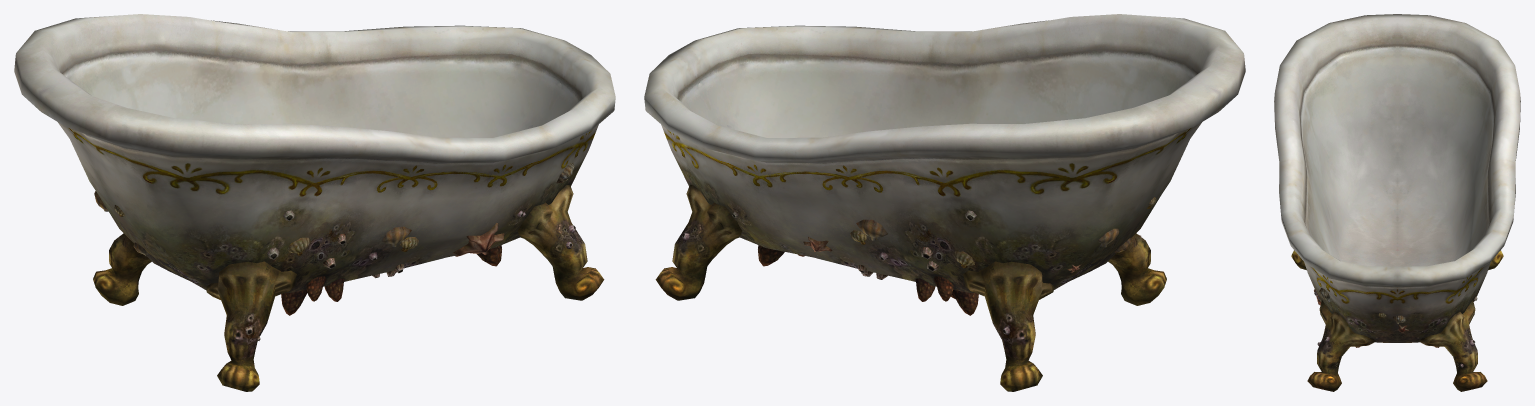
File: Duchess Bath.obj
3 views of the same model, side by side, from view 1: azimuth 30°, elevation 25°; view 2: azimuth 150°, elevation 25°; view 3: azimuth 270°, elevation 25° (orthographic). The views are drawn at different scales.
Visible parts, largest first — view 1: DuchessBathB; view 2: DuchessBathB; view 3: DuchessBathB.
Boxes of the visible parts, box(x1,y1,x2,y2) form: DuchessBathB: box(14, 14, 615, 391); DuchessBathB: box(644, 14, 1245, 391); DuchessBathB: box(1274, 14, 1520, 391).
Size of the model in its own units: 3.01 by 1.52 by 1.63.
Materials: 2 (2 with a texture image).
